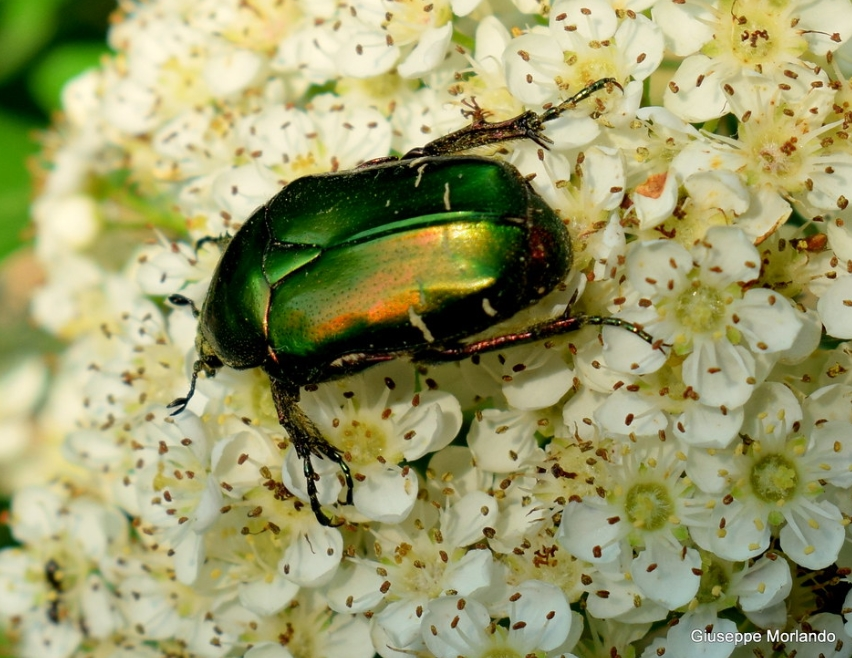Cetonia_aurata: (168, 72, 673, 530)
